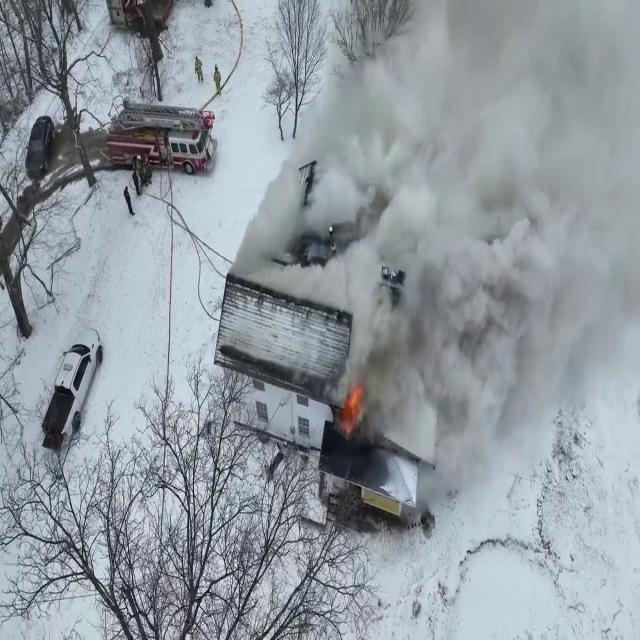Smoke: (298, 0, 638, 558)
